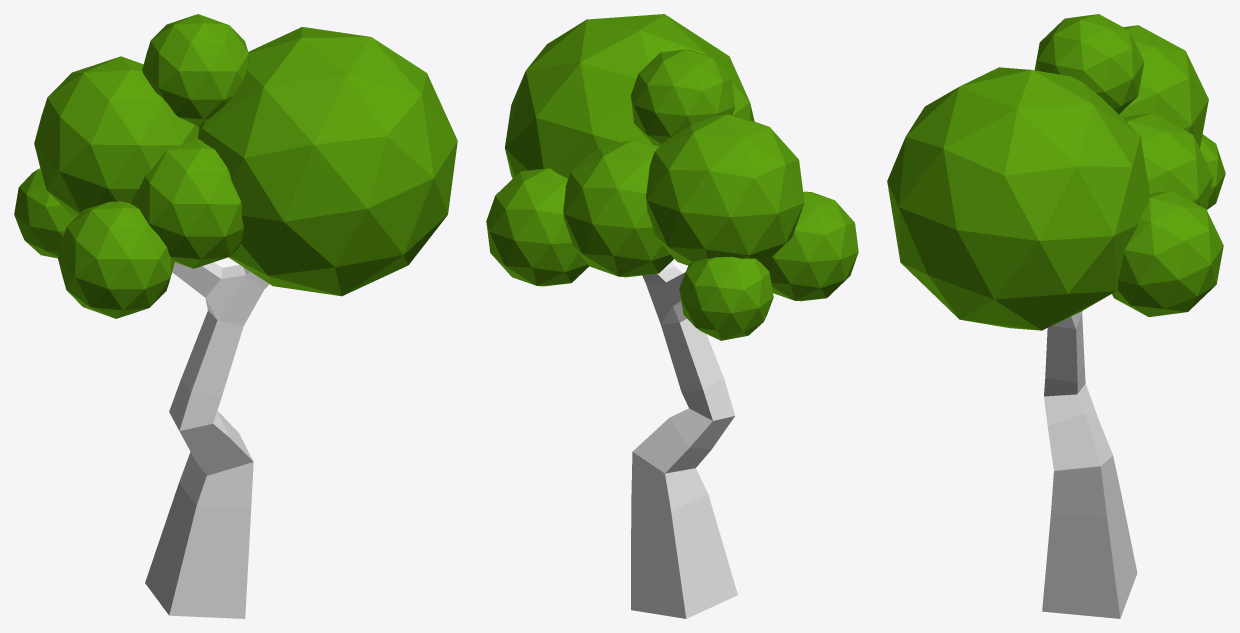
The model's file is tree2.fbx.
3 views of the same model, side by side, from view 1: azimuth 30°, elevation 25°; view 2: azimuth 150°, elevation 25°; view 3: azimuth 270°, elevation 25° (orthographic). The views are drawn at different scales.
Visible parts, largest first — view 1: Tree2; view 2: Tree2; view 3: Tree2.
Part boxes in pixels (x1=…): Tree2: x1=14, y1=14, x2=457, y2=618; Tree2: x1=486, y1=14, x2=858, y2=618; Tree2: x1=887, y1=14, x2=1225, y2=618.
Size of the model in its own units: 176 by 274 by 145.
